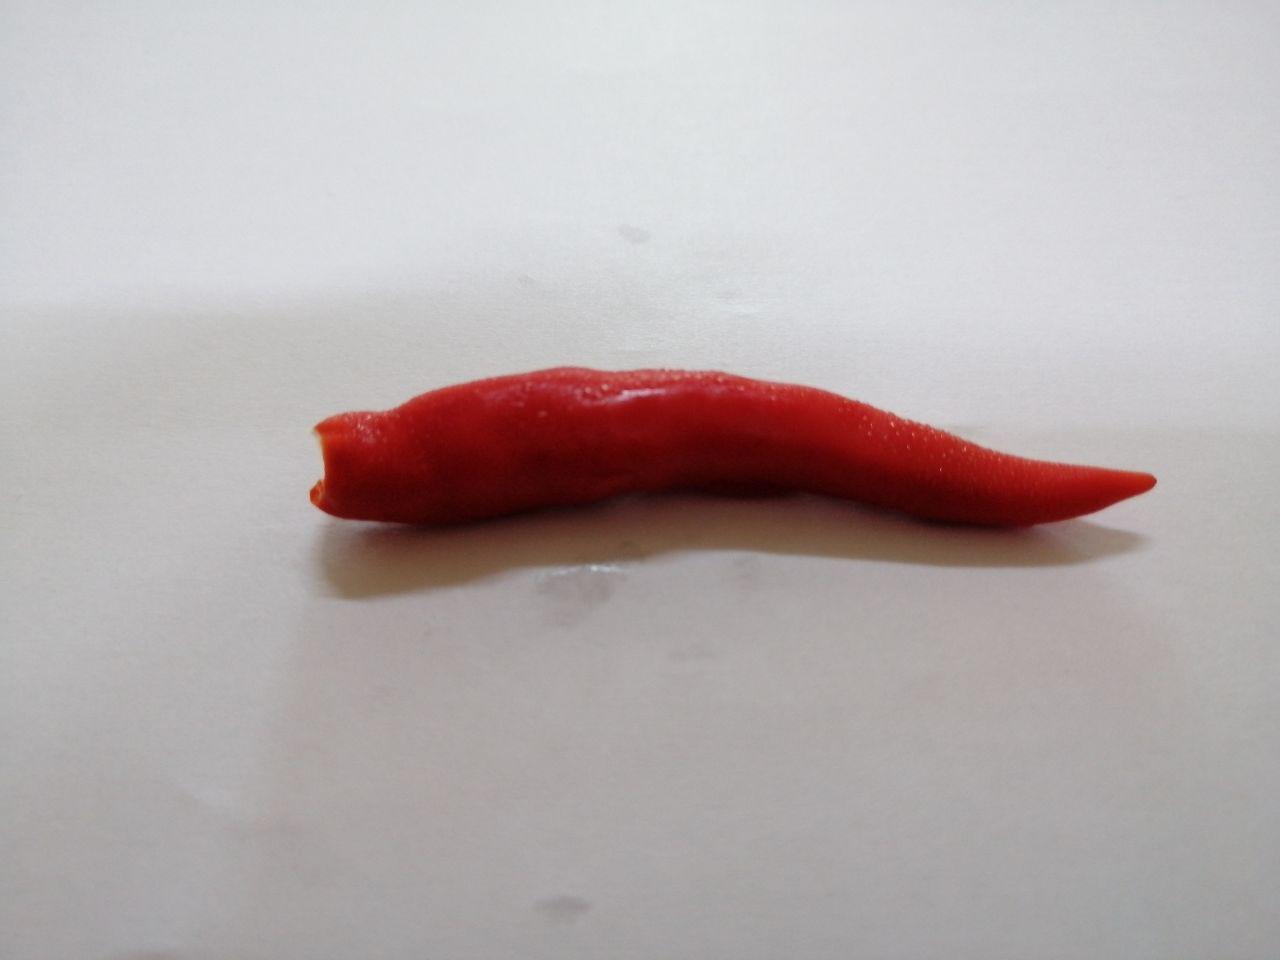lada merah: (299, 350, 1178, 589)
